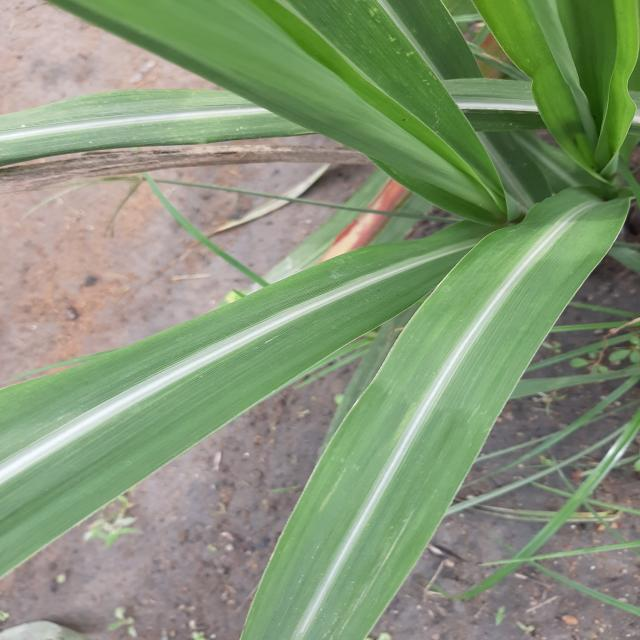Sugarcane: (1, 1, 638, 638)
